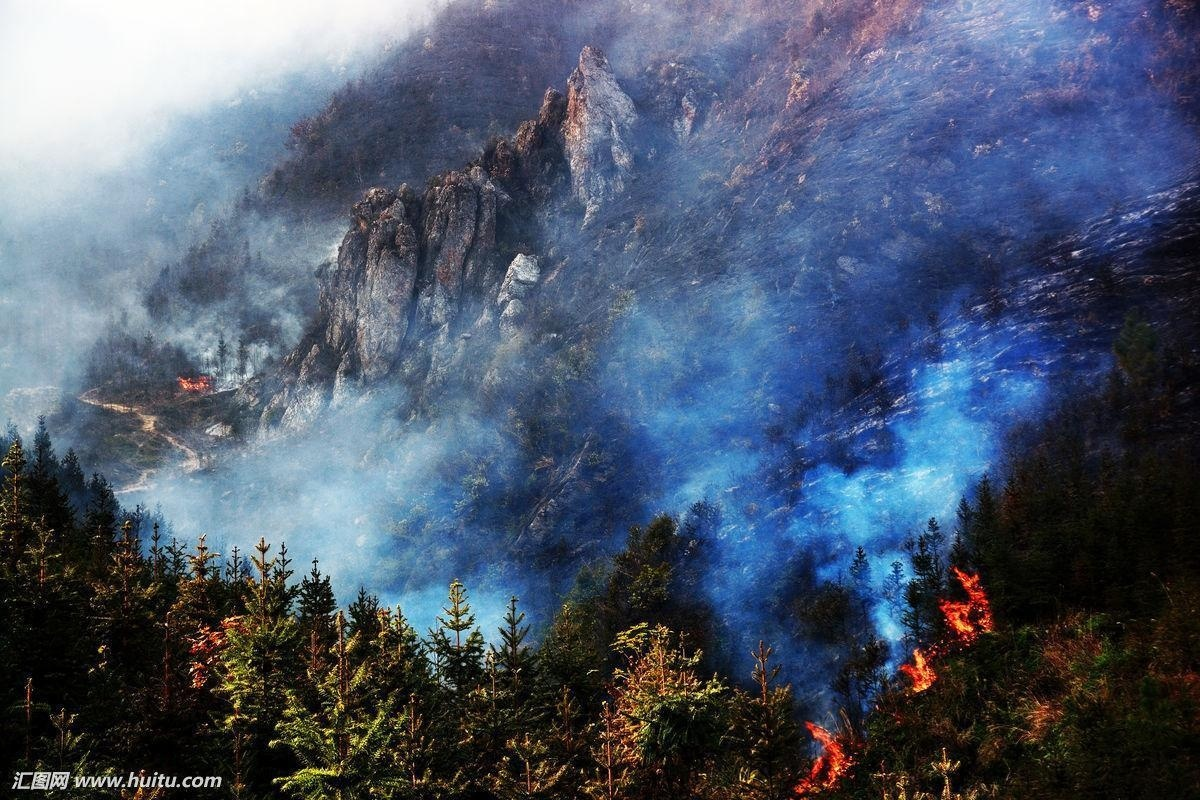fire: (792, 719, 852, 794), (941, 564, 994, 637), (897, 646, 940, 692), (1023, 695, 1057, 736), (173, 368, 214, 394)
